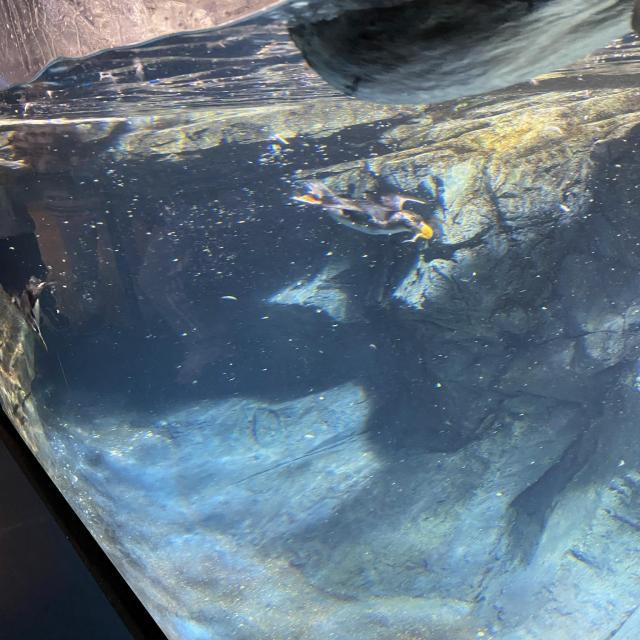puffin: (298, 180, 444, 248)
